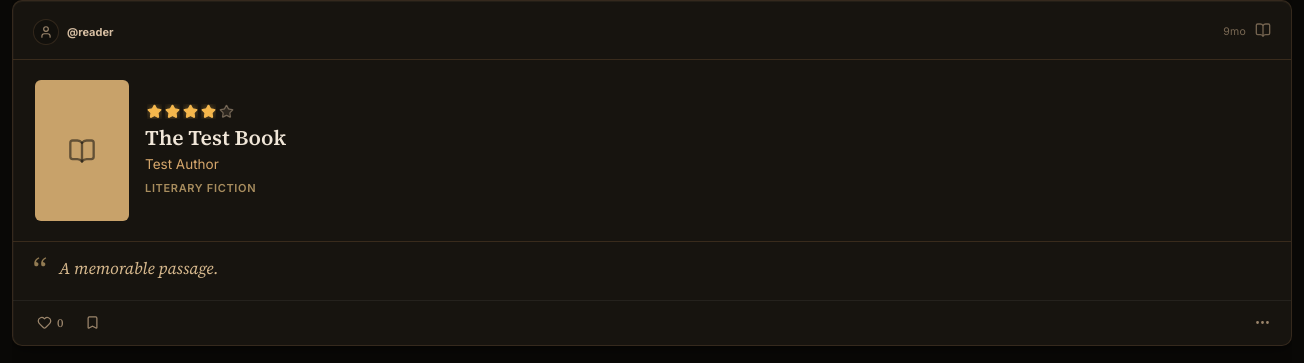
it: card actions menu › offers to enable comments when they are currently disabled
The width and height of the screenshot is (1304, 363).
Click the button named "More entry actions".
click(1262, 323)  # box x1=1247 y1=308 x2=1277 y2=338
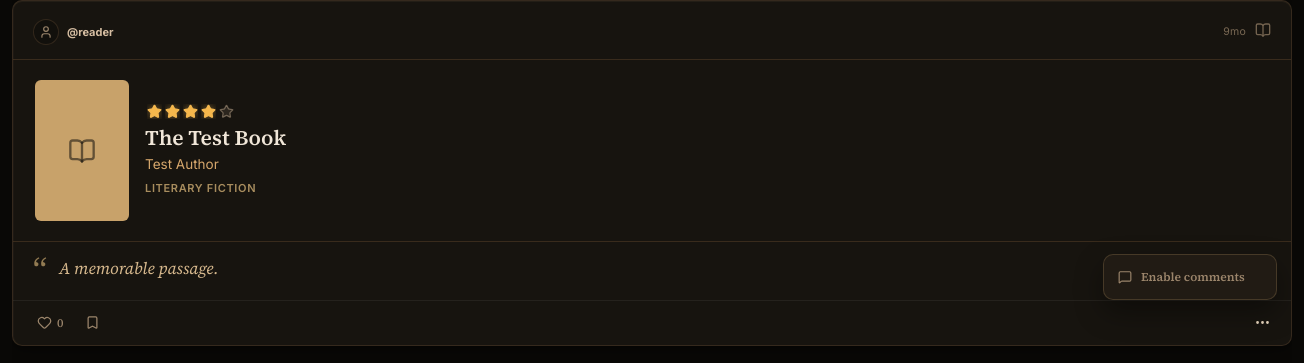
Expected: the menu item "Enable comments" is shown, x1=1109 y1=260 x2=1271 y2=294
